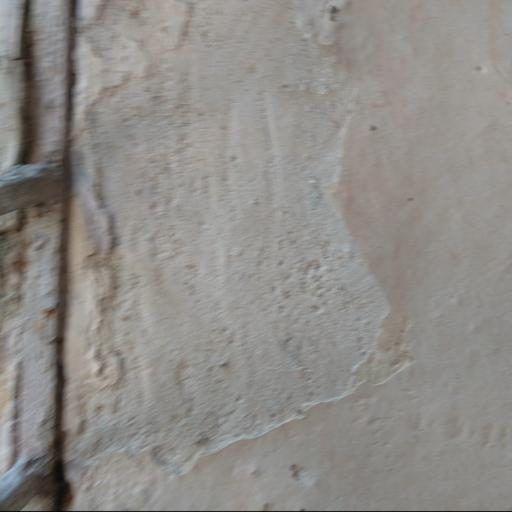peeling: (60, 14, 429, 486)
